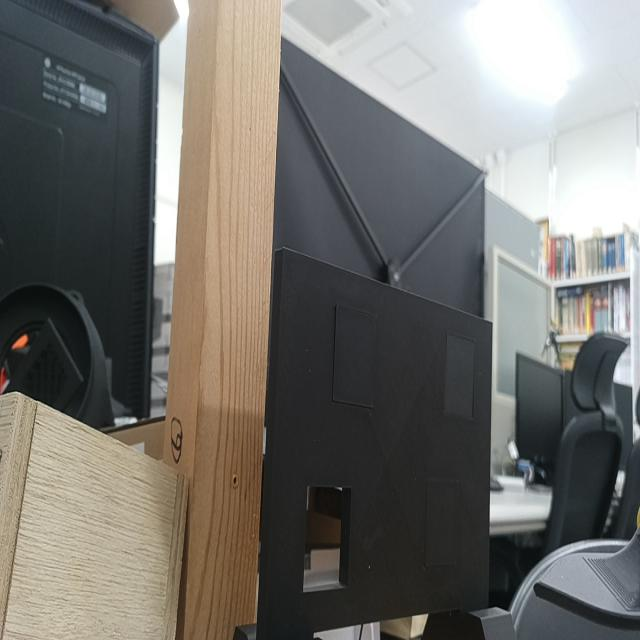Obstacle: (303, 485, 351, 588)
Wall: (268, 247, 491, 639)
